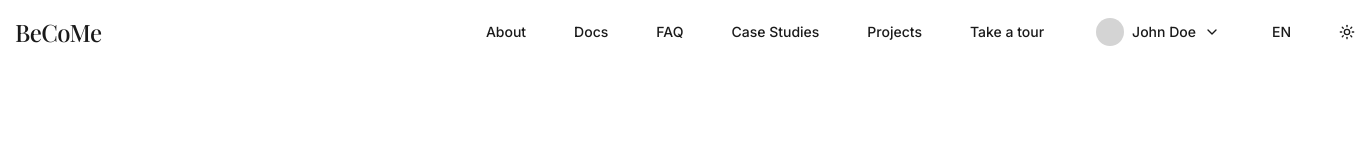
Test case: Navbar - User Menu › opens dropdown on click
Click the button "John Doe": (1158, 32) [1080,12,1236,52]
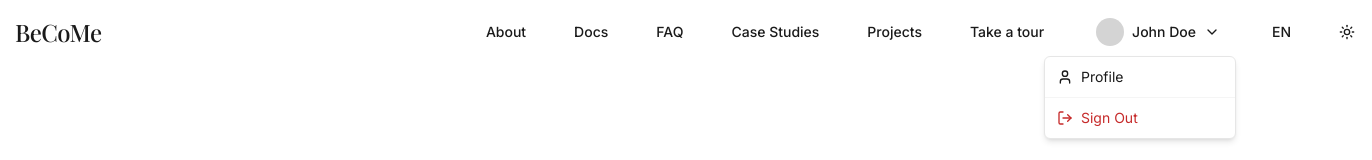
Expected: the menu item "Profile" is shown, [1057,68,1124,85]
